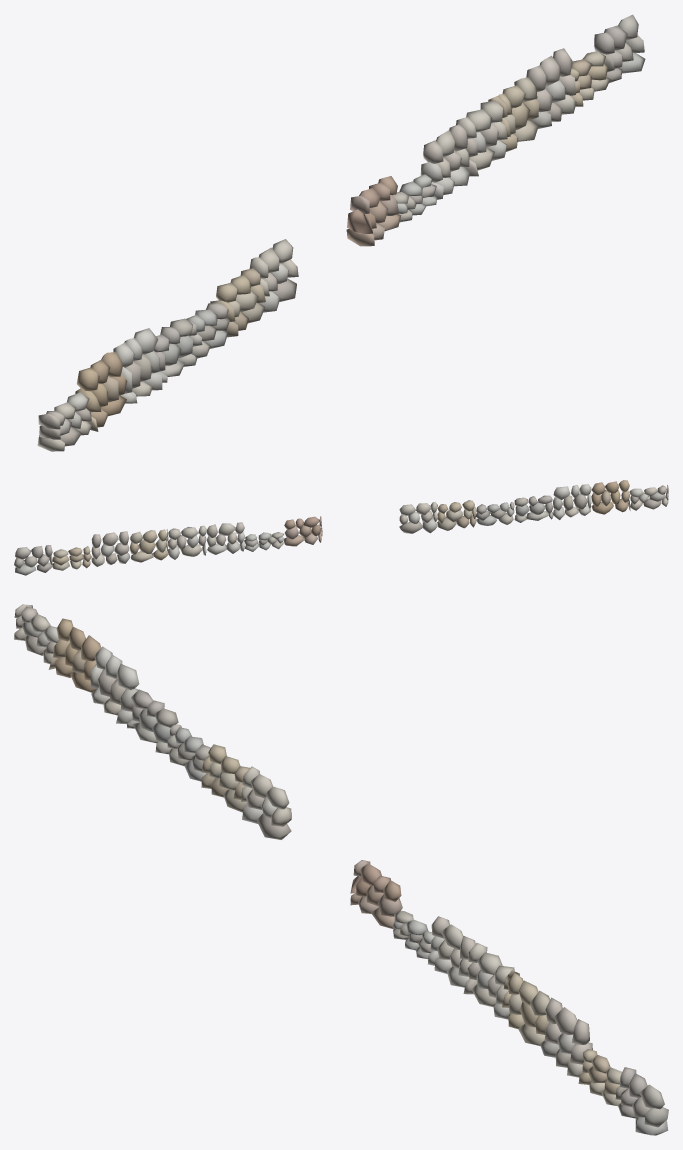
Rendered from farm_-9_-12_near.glb.
3 views of the same model, one above another, from view 1: azimuth 30°, elevation 25°; view 2: azimuth 150°, elevation 25°; view 3: azimuth 270°, elevation 25° (orthographic). The views are drawn at different scales.
Parts seen in each view (by area): view 1: geometry_0; view 2: geometry_0; view 3: geometry_0.
Part boxes in pixels (x1=…): geometry_0: x1=37, y1=14, x2=645, y2=451; geometry_0: x1=14, y1=480, x2=668, y2=575; geometry_0: x1=14, y1=604, x2=668, y2=1135.
Bounding box in the file's own units: 22.58 × 3.49 × 15.15.
